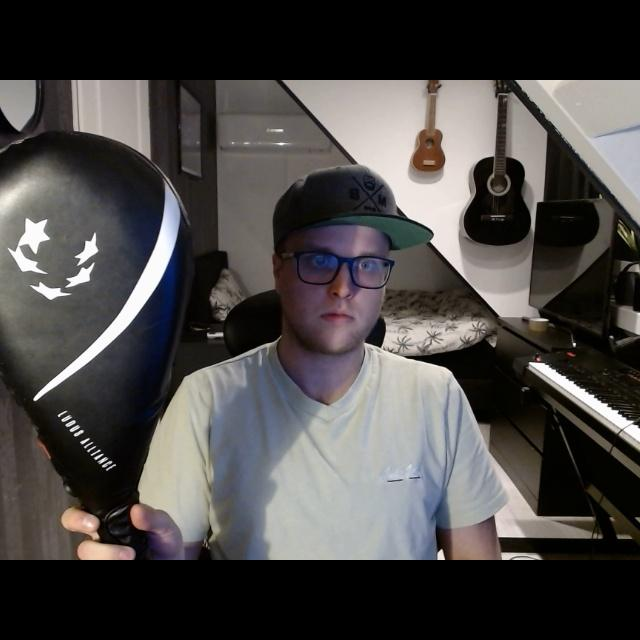paddle: (0, 129, 189, 527)
